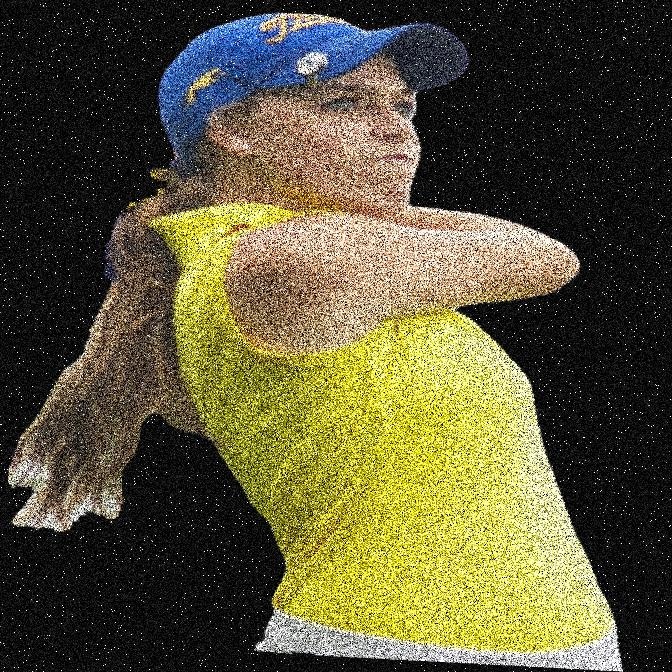Pessoa: (252, 0, 431, 671)
